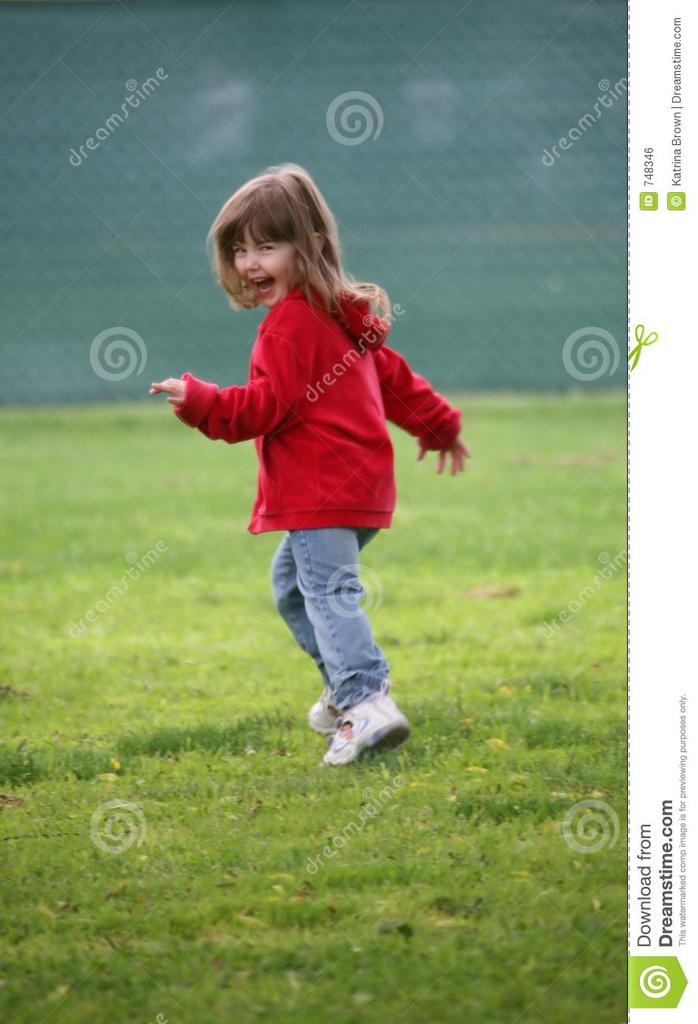child: (166, 167, 497, 789)
